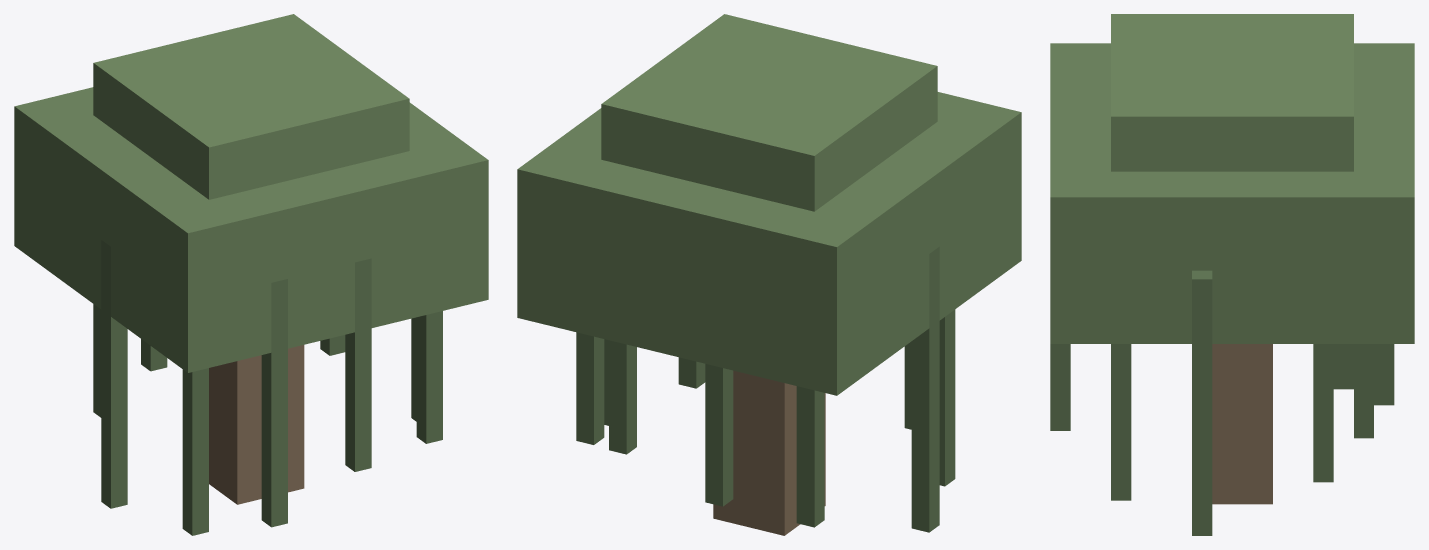
Rendered from sauce_lloron_02.glb.
3 renders of one model, left to right at view 1: azimuth 30°, elevation 25°; view 2: azimuth 150°, elevation 25°; view 3: azimuth 270°, elevation 25°, orthographic. The views are drawn at different scales.
Parts seen in each view (by area): view 1: sauce_lloron_02; view 2: sauce_lloron_02; view 3: sauce_lloron_02.
Part boxes in pixels (x1,y1,x2,y2): sauce_lloron_02: [14, 14, 488, 535]; sauce_lloron_02: [517, 14, 1021, 535]; sauce_lloron_02: [1050, 14, 1414, 535].
Size of the model in its own units: 1.9 by 2.3 by 1.8.
